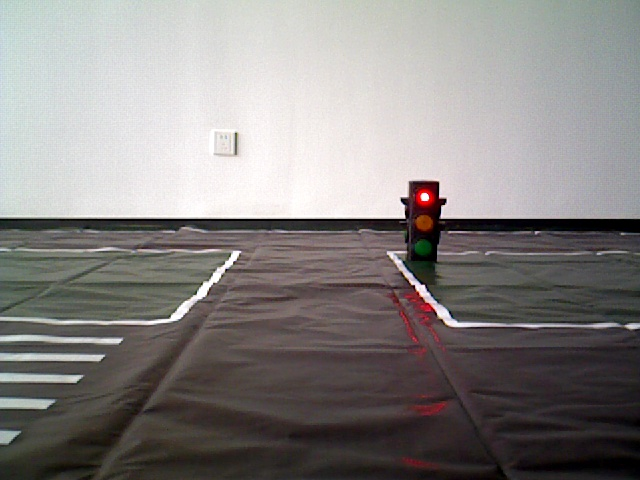red: (410, 178, 437, 260)
